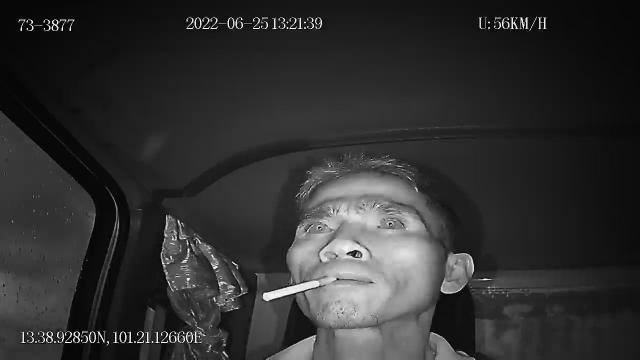SafeDriving: (366, 212, 408, 236), (298, 215, 334, 238)
Smoking: (262, 277, 336, 301)
